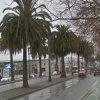Palm tree: (5, 2, 82, 84)
